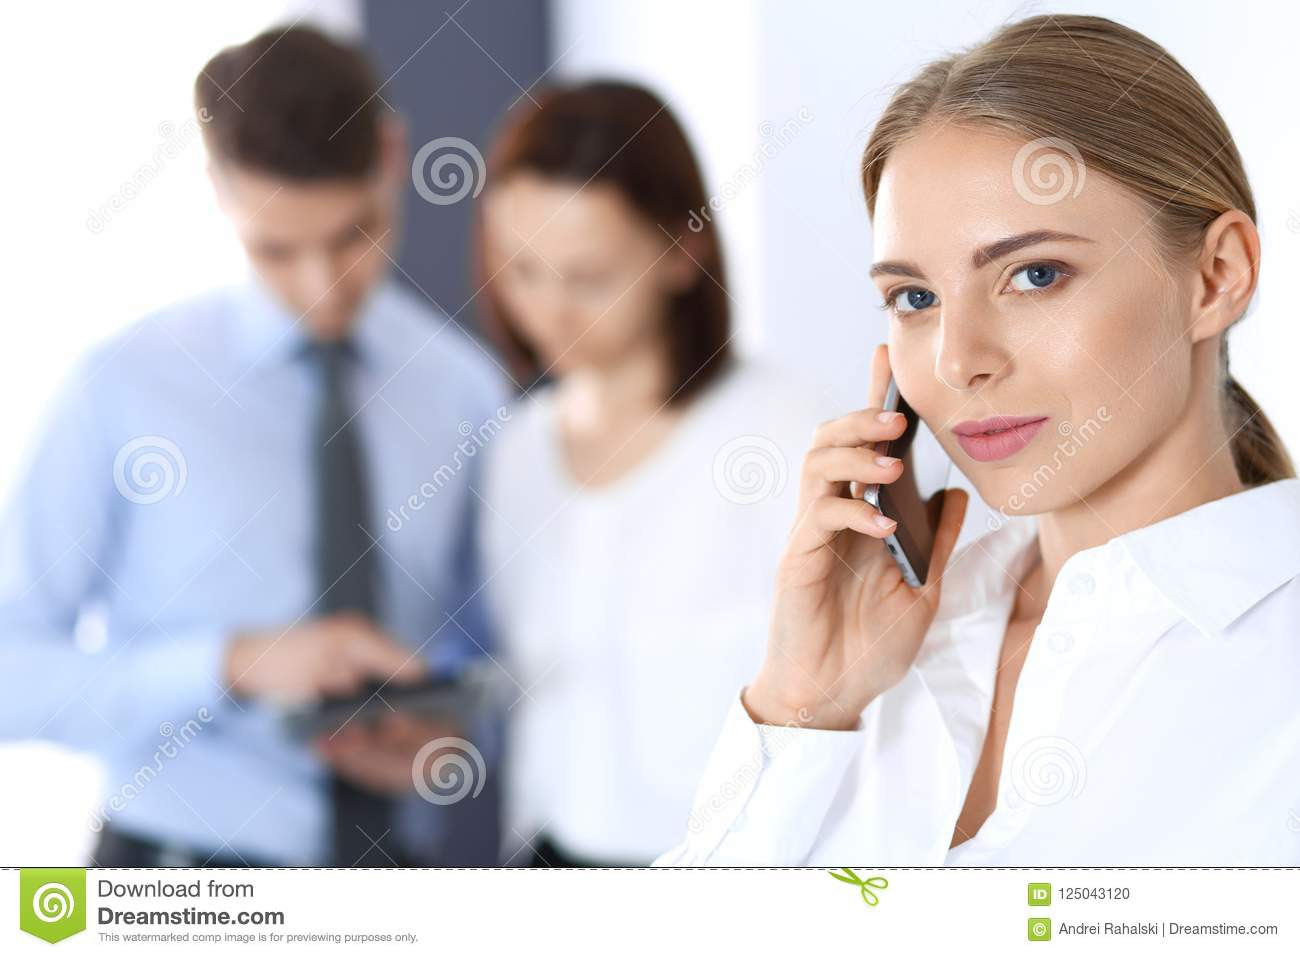phone: (865, 368, 954, 598)
talk: (771, 220, 1114, 703)
